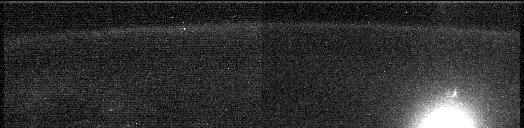positive: (443, 86, 461, 102)
